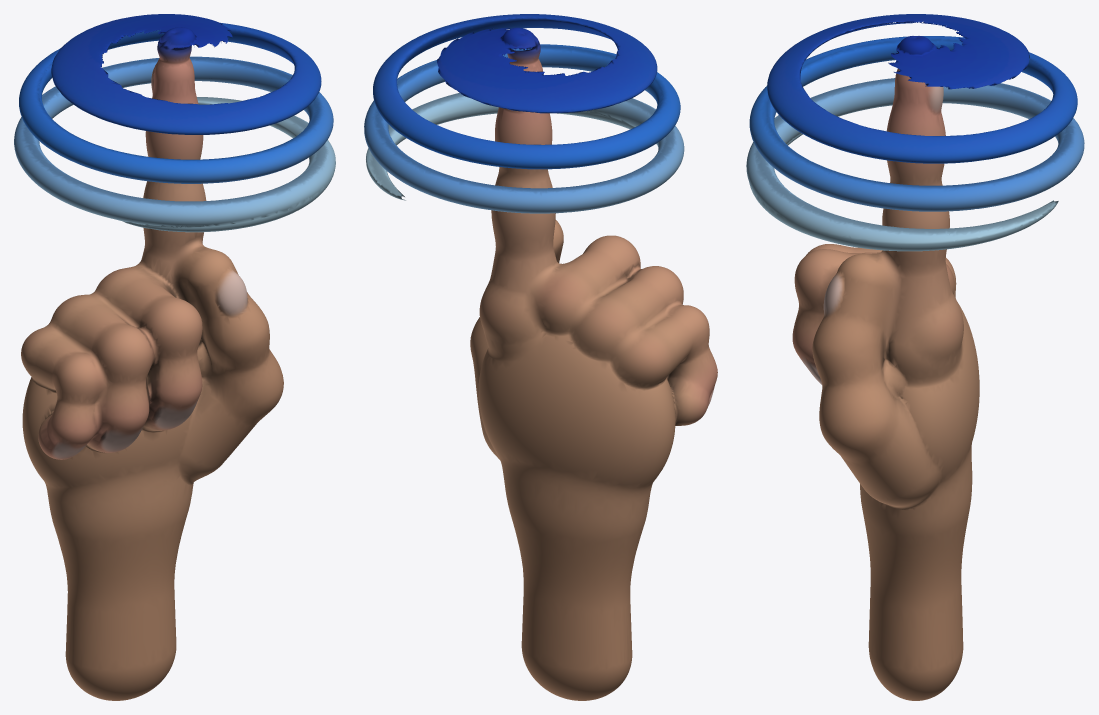
File: hand.glb
3 views of the same model, side by side, from view 1: azimuth 30°, elevation 25°; view 2: azimuth 150°, elevation 25°; view 3: azimuth 270°, elevation 25° (orthographic). The views are drawn at different scales.
Parts seen in each view (by area): view 1: extraCredit; view 2: extraCredit; view 3: extraCredit.
Part boxes in pixels (x1=…): extraCredit: x1=14, y1=14, x2=335, y2=700; extraCredit: x1=364, y1=14, x2=717, y2=700; extraCredit: x1=746, y1=14, x2=1084, y2=700.
Size of the model in its own units: 1.04 by 2.19 by 0.9758.
